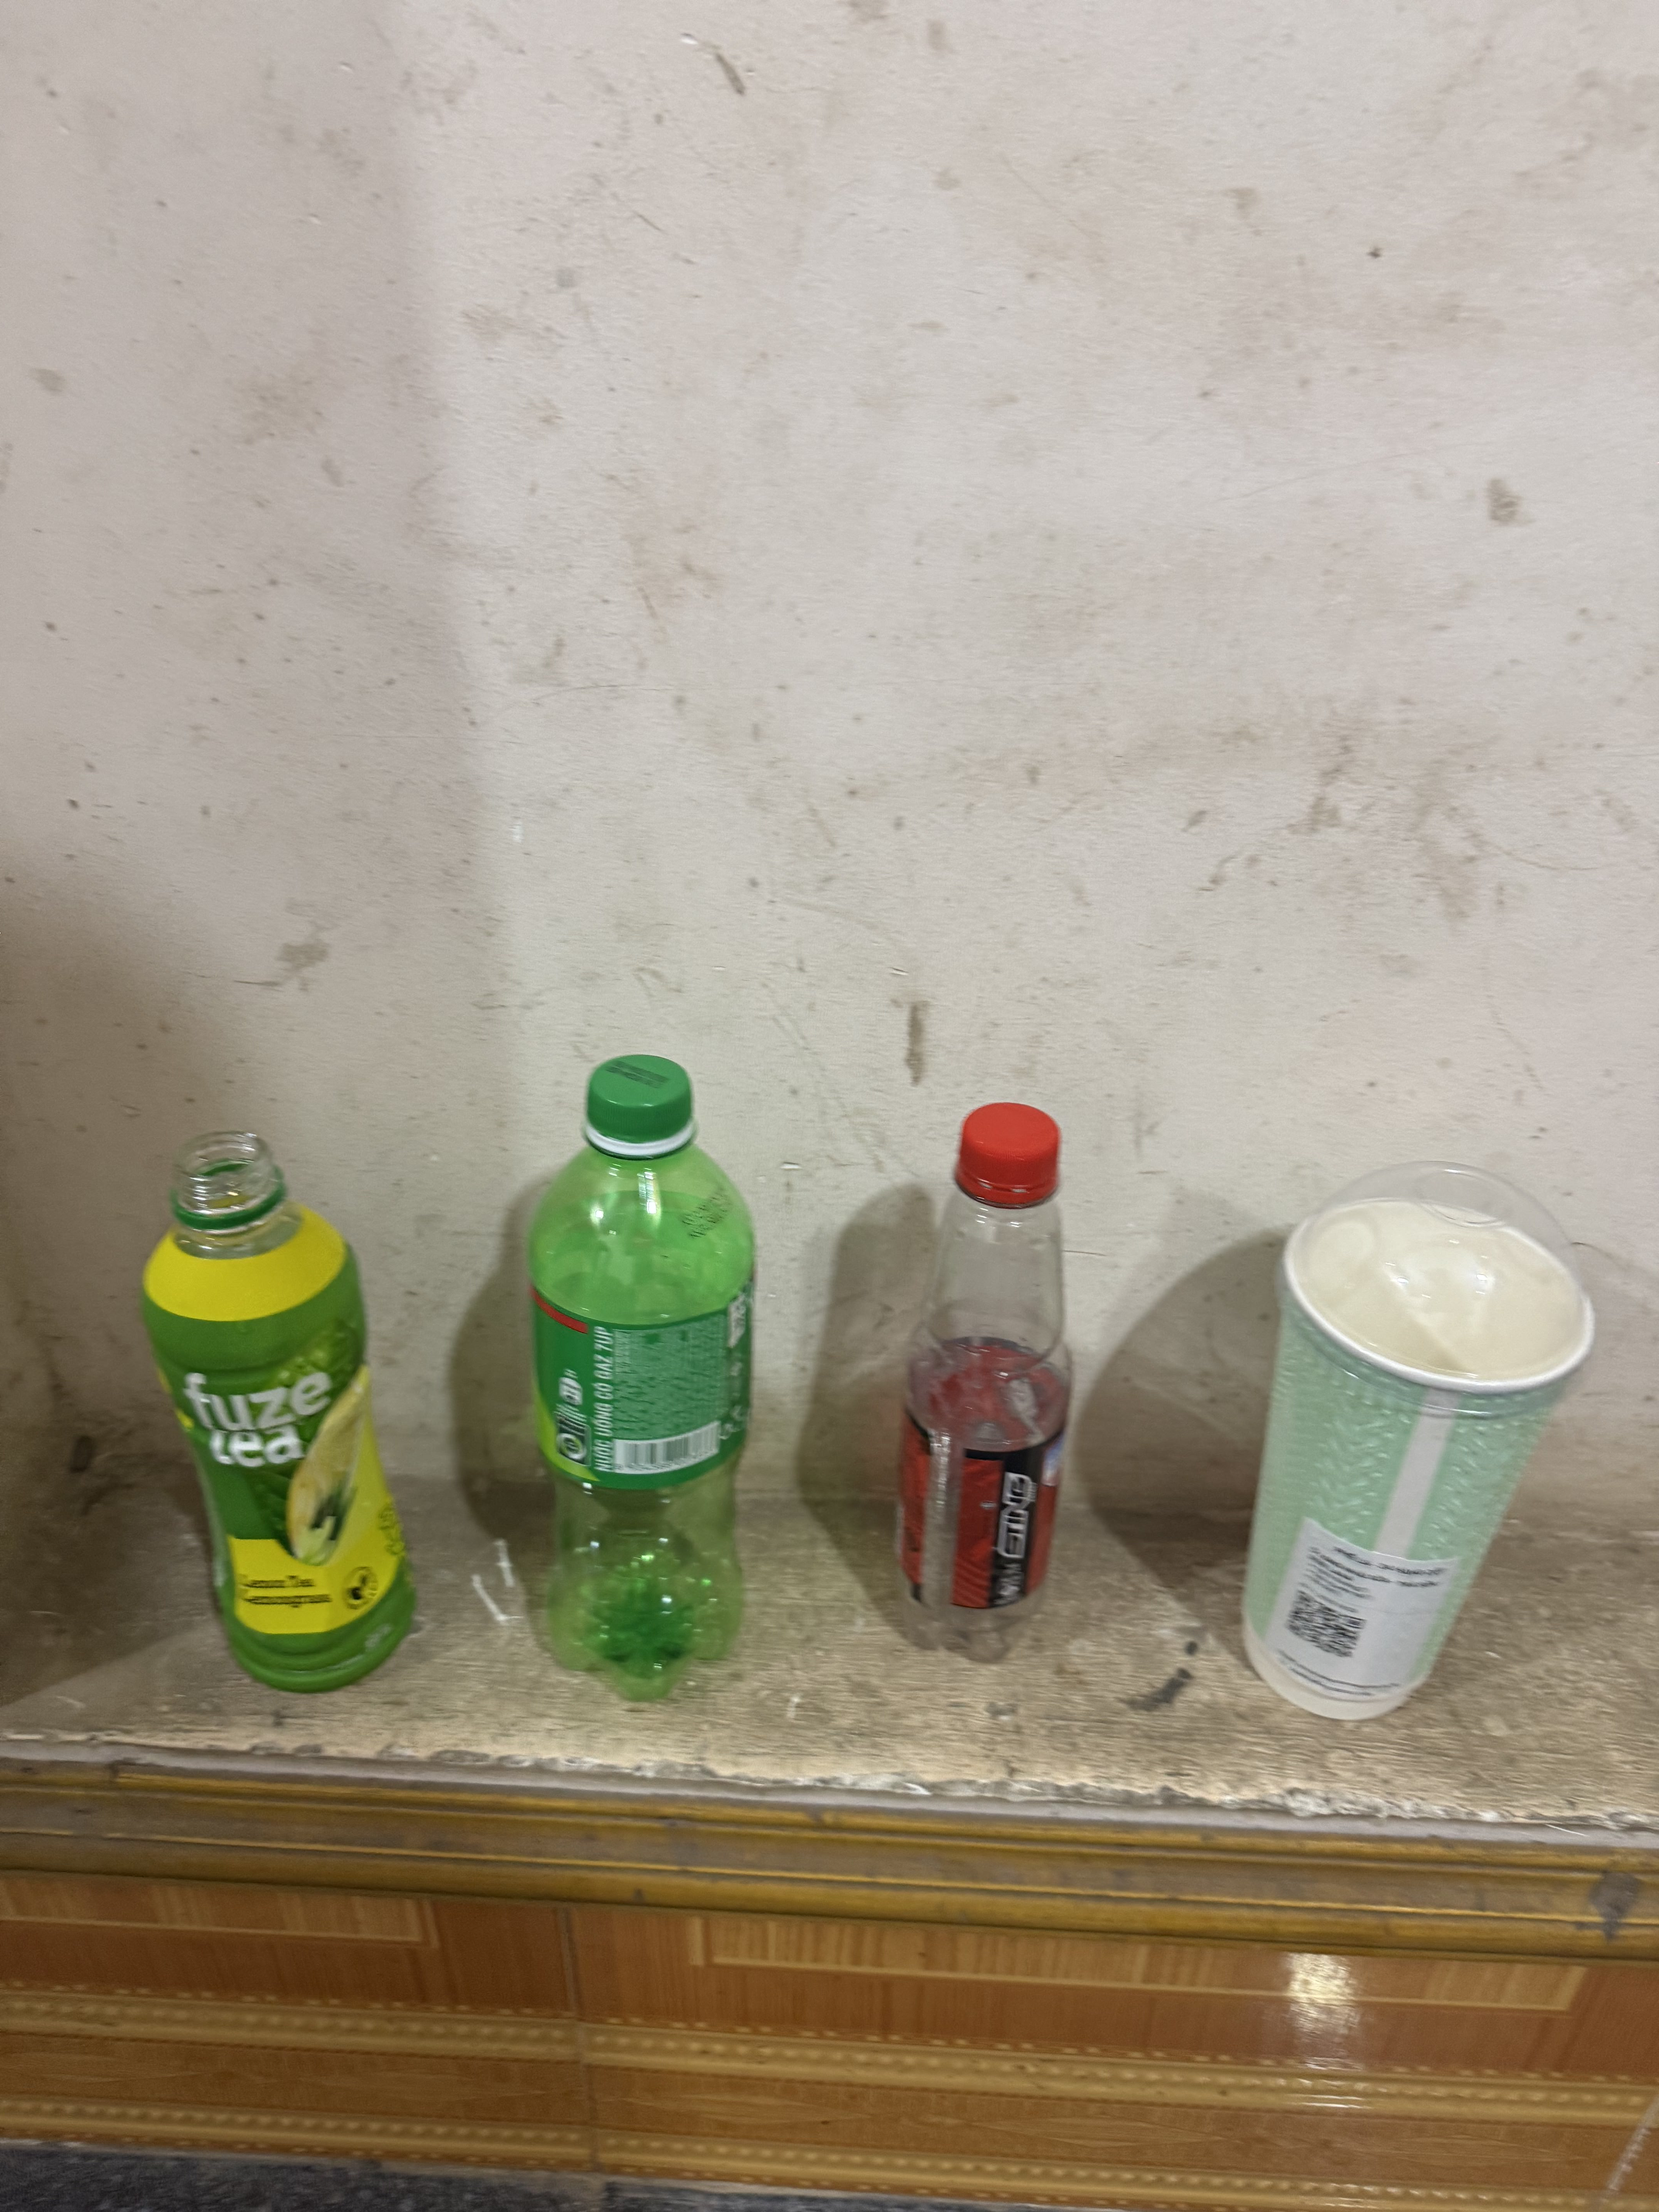2: (1202, 1137, 1615, 1754)
bottle: (112, 1108, 457, 1714), (495, 1040, 791, 1721), (868, 1082, 1105, 1703)
